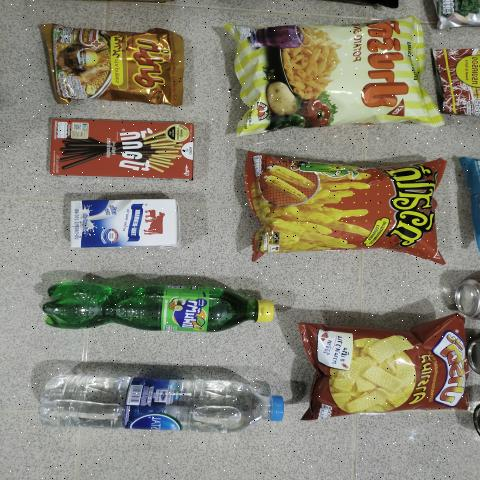crystal: (39, 372, 291, 434)
fanta_green: (44, 276, 287, 342)
mama: (56, 30, 179, 101)
paprika: (251, 24, 419, 117)
party_red: (313, 331, 468, 412)
pokki: (45, 118, 192, 180)
thai_denmark: (66, 194, 185, 256)
twisco: (260, 164, 436, 253)
